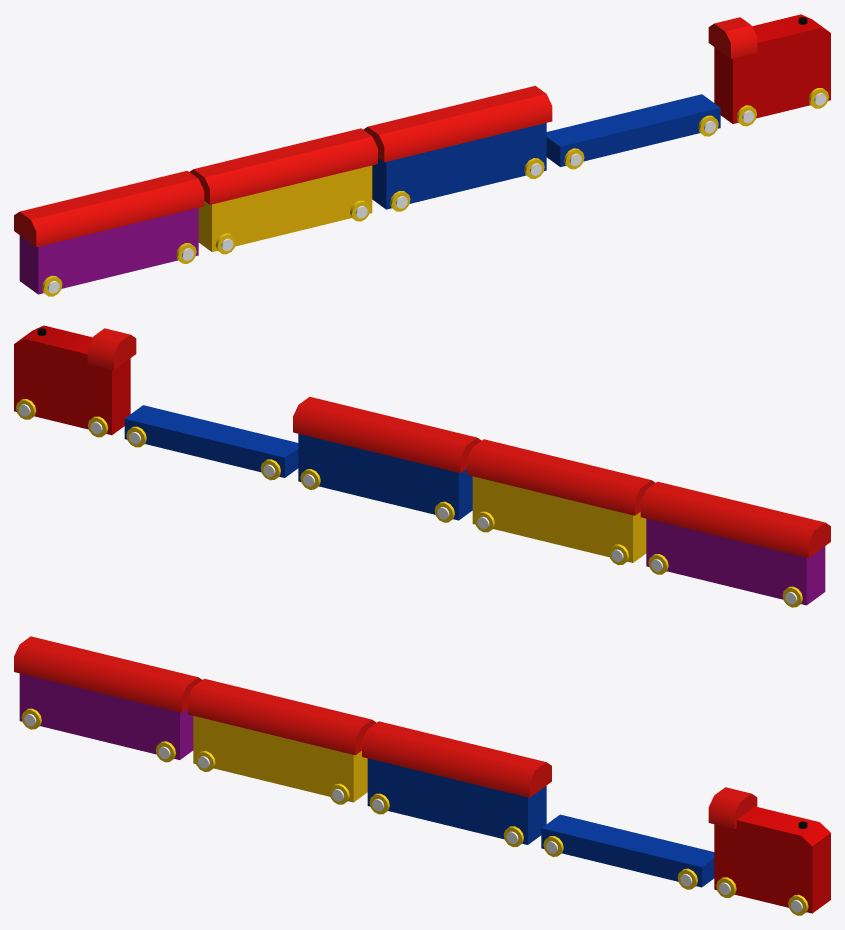
File: train.FBX
3 renders of one model, top to bottom at view 1: azimuth 30°, elevation 25°; view 2: azimuth 150°, elevation 25°; view 3: azimuth 330°, elevation 25°, orthographic.
Visible parts, largest first — view 1: train; view 2: train; view 3: train.
Boxes of the visible parts, bbox=[...] form: train: bbox=[14, 14, 830, 296]; train: bbox=[14, 325, 830, 607]; train: bbox=[14, 636, 830, 915].
Size of the model in its own units: 88.75 by 4.75 by 10.16.
